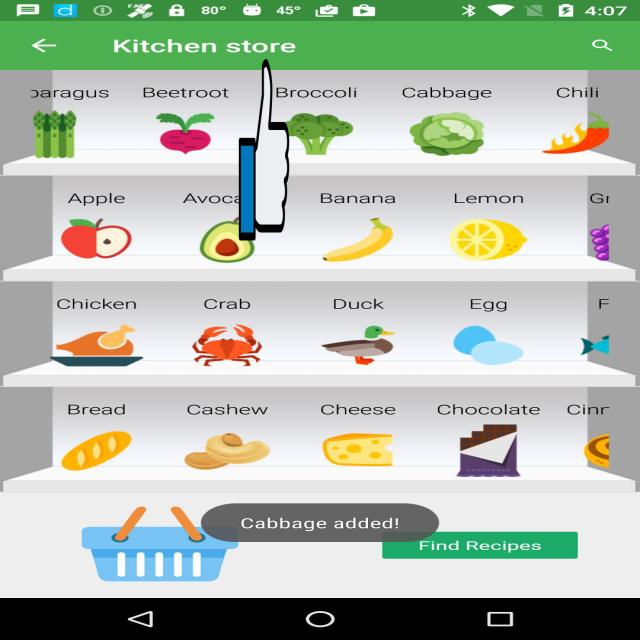privacy zuckering: (239, 55, 289, 244)
